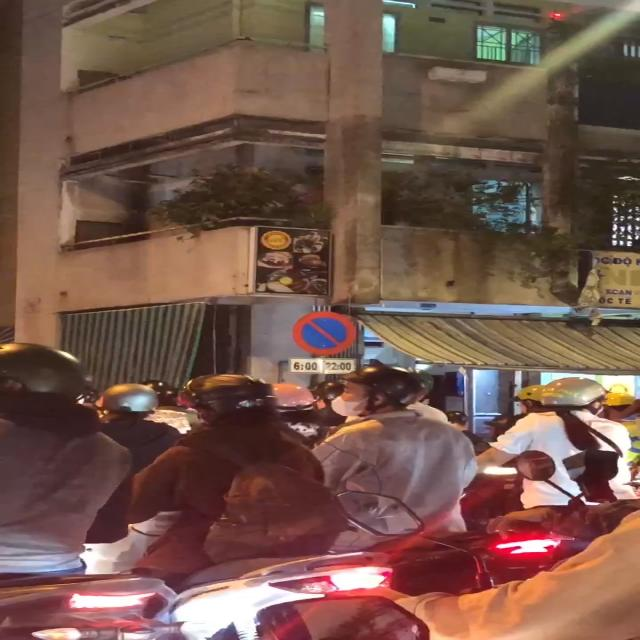Bien bao cam do xe: (288, 308, 360, 356)
